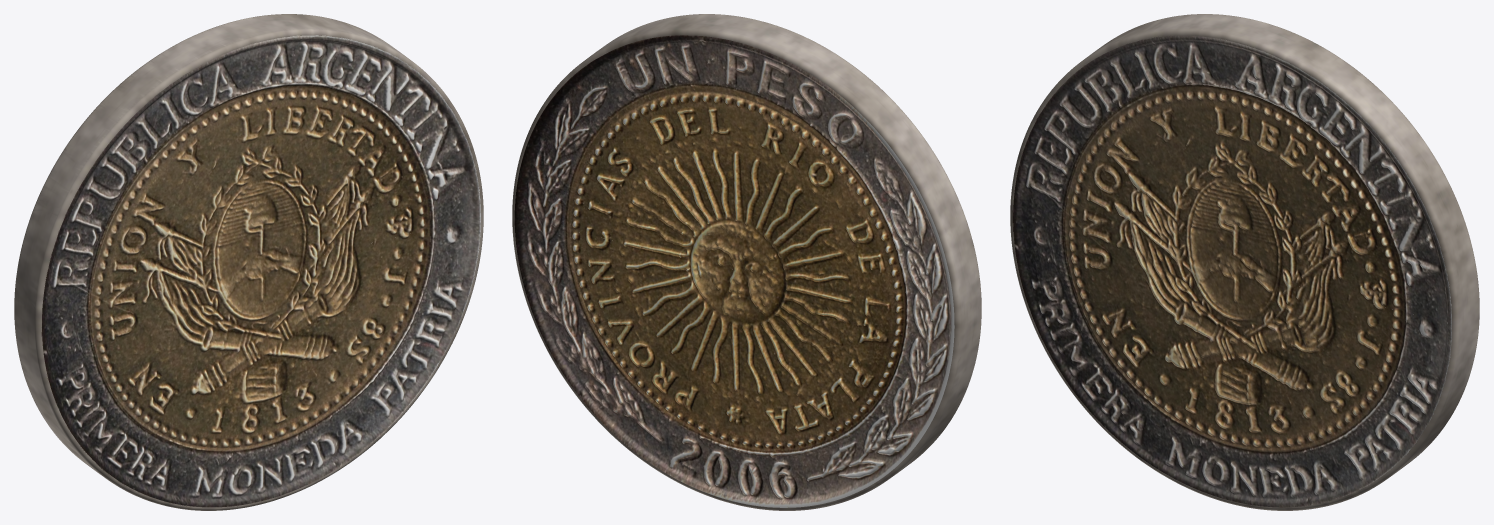
File: 1-peso-hq.glb
3 renders of one model, left to right at view 1: azimuth 30°, elevation 25°; view 2: azimuth 150°, elevation 25°; view 3: azimuth 330°, elevation 25°, orthographic.
Visible parts, largest first — view 1: obverse, edge; view 2: reverse, edge; view 3: obverse, edge.
Part boxes in pixels (x1,y1,x2,y2): obverse: (41, 35, 480, 507); edge: (14, 14, 483, 510); reverse: (514, 35, 954, 507); edge: (512, 14, 981, 510); obverse: (1012, 35, 1451, 507); edge: (1010, 14, 1479, 510).
Bounding box in the file's own units: 0.023 × 0.023 × 0.0022.
Materials: 3 (3 with a texture image).
